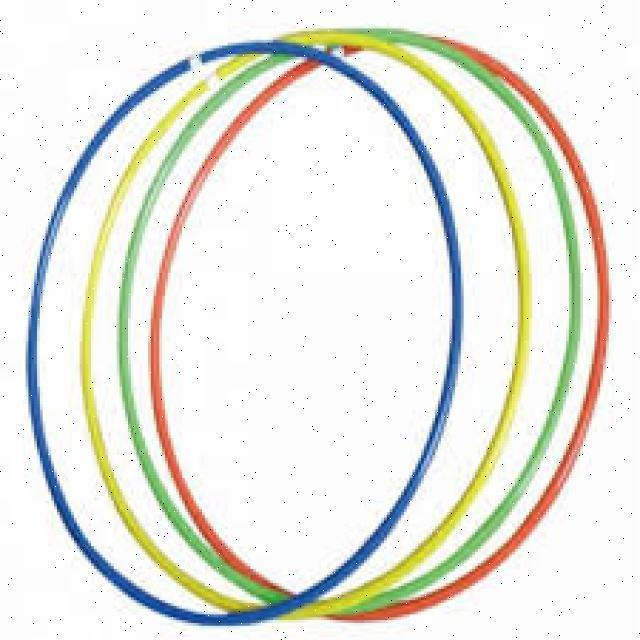Circle: (116, 31, 579, 614), (82, 35, 531, 622), (27, 42, 464, 629)
